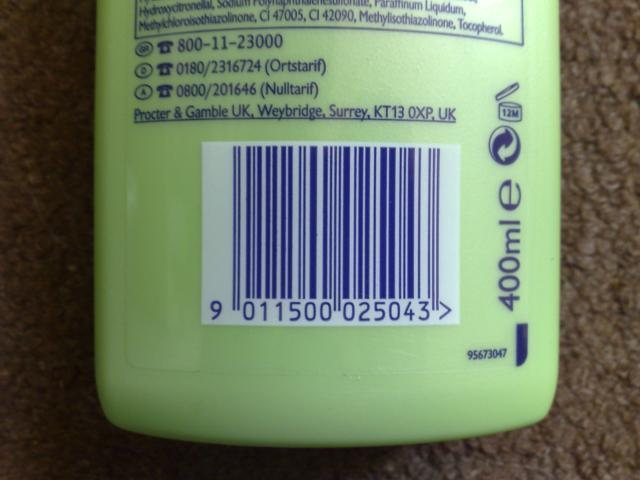Barcode: (202, 142, 461, 326)
